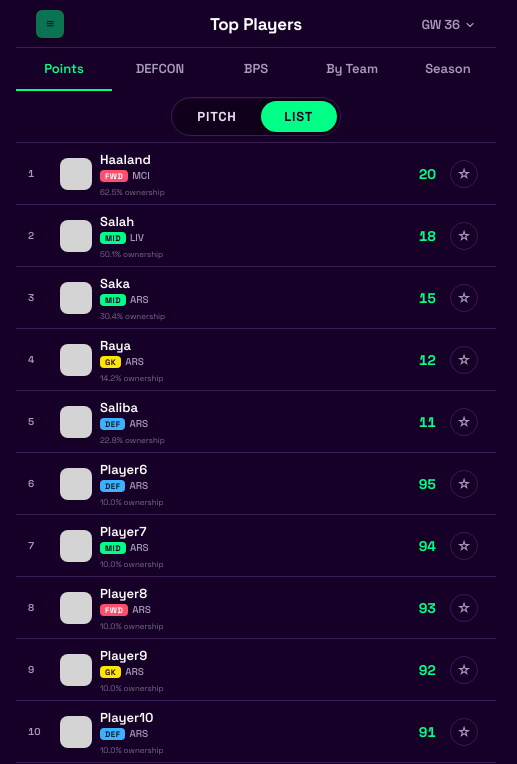
TopPlayersScreen — Season tab › renders season players on Points sub-view
Click the tab "Season" at (448, 70), box [400,48,496,91]
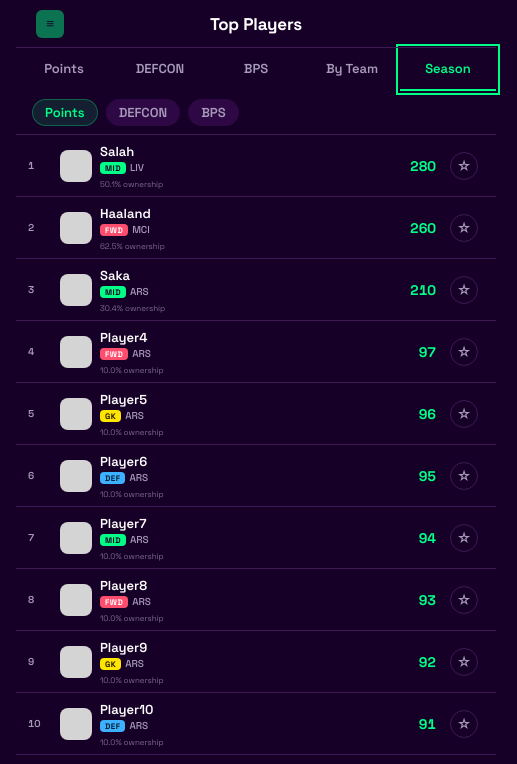
Now the text "Salah" is shown, box [100,143,134,160]
Now the text "Haaland" is shown, box [100,205,151,222]
